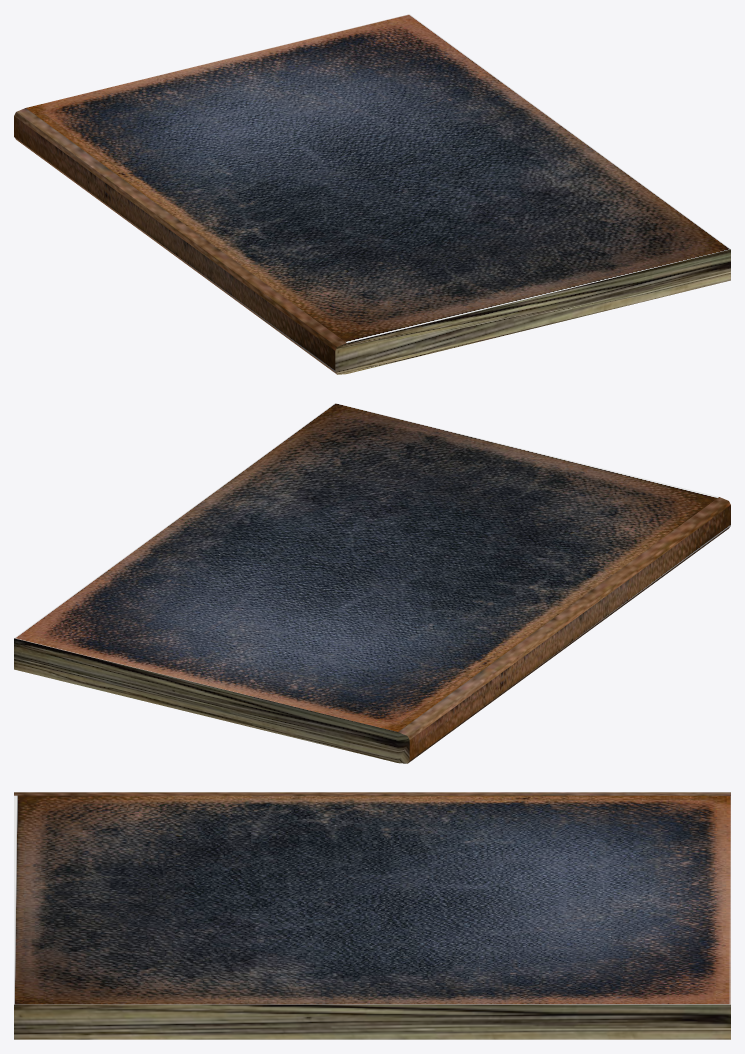
File: OldBook.fbx
3 renders of one model, top to bottom at view 1: azimuth 30°, elevation 25°; view 2: azimuth 150°, elevation 25°; view 3: azimuth 270°, elevation 25°, orthographic. The views are drawn at different scales.
Parts seen in each view (by area): view 1: Cube; view 2: Cube; view 3: Cube.
Boxes of the visible parts, bbox=[...] form: Cube: bbox=[14, 14, 730, 374]; Cube: bbox=[14, 403, 730, 763]; Cube: bbox=[14, 792, 730, 1039].
Bounding box in the file's own units: 52.78 × 3.97 × 74.23.
1 material, 1 textured.
